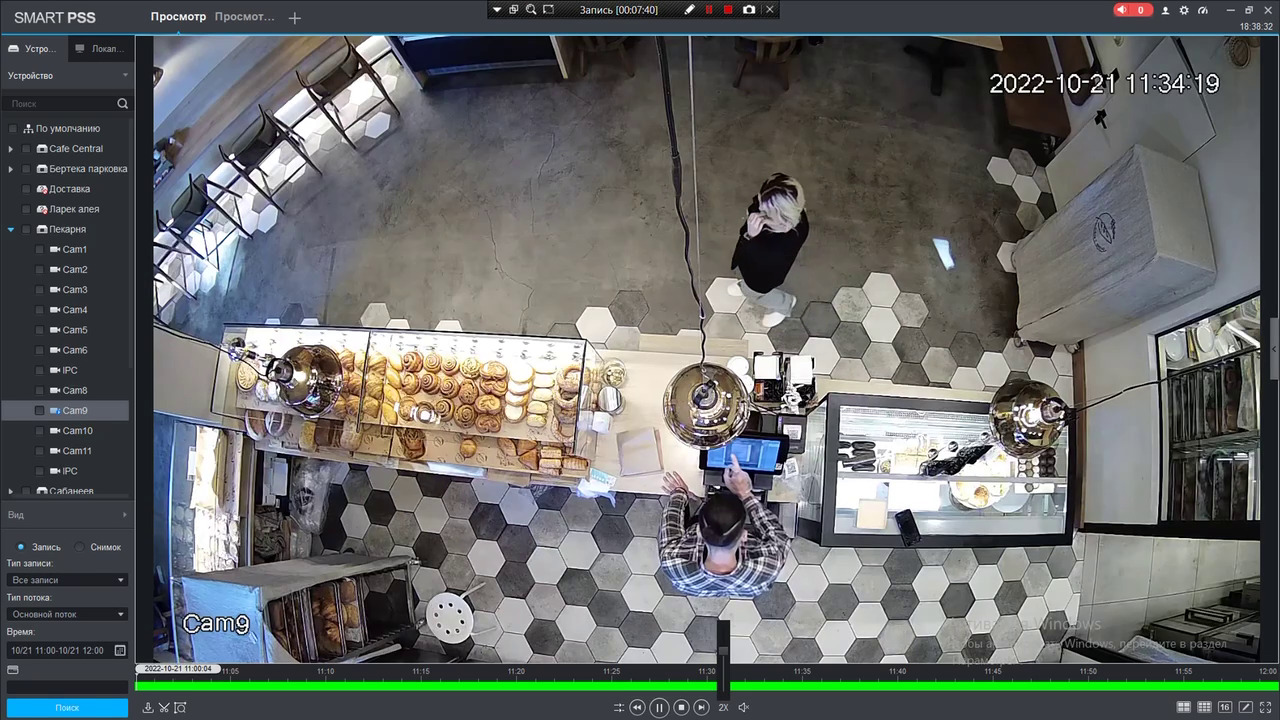pack: (610, 427, 662, 478)
person: (722, 171, 812, 325)
